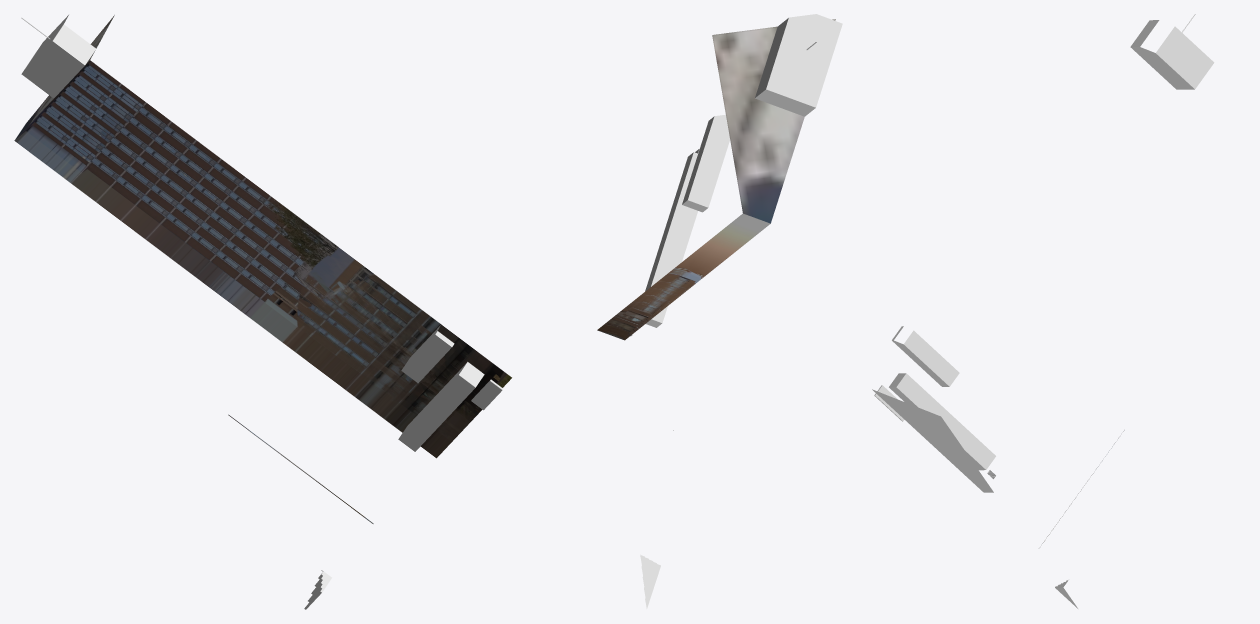
Rendered from 39951_bldg_Building.glb.
3 views of the same model, side by side, from view 1: azimuth 30°, elevation 25°; view 2: azimuth 150°, elevation 25°; view 3: azimuth 270°, elevation 25° (orthographic). The views are drawn at different scales.
Bounding box in the file's own units: 58.87 × 91.75 × 61.12.
Materials: 2 (1 with a texture image).
